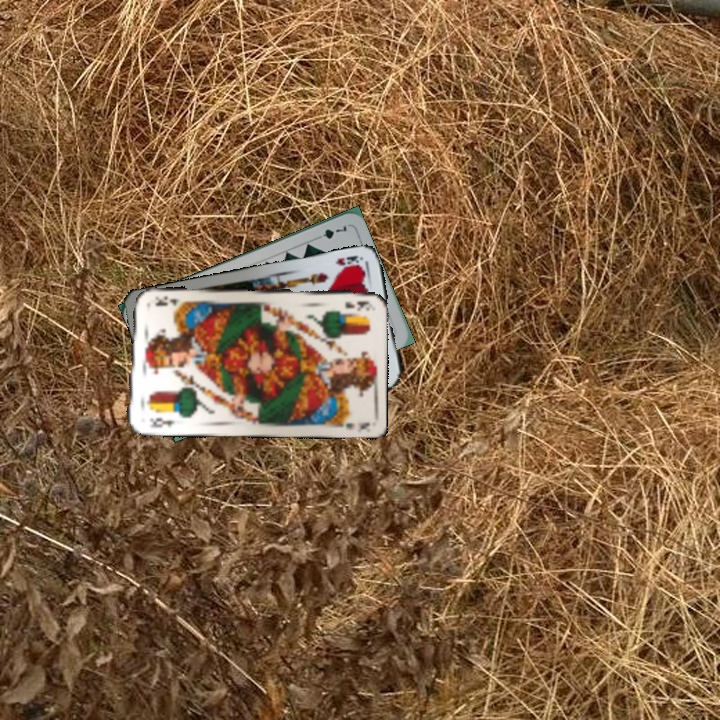EK: (146, 413, 177, 430), (342, 297, 371, 312)
G7: (311, 221, 351, 243)
HK: (332, 252, 365, 272)
